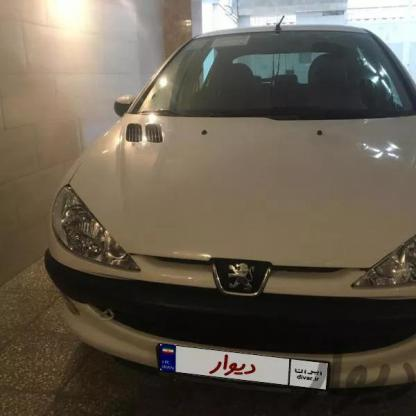Car: (43, 25, 416, 416)
